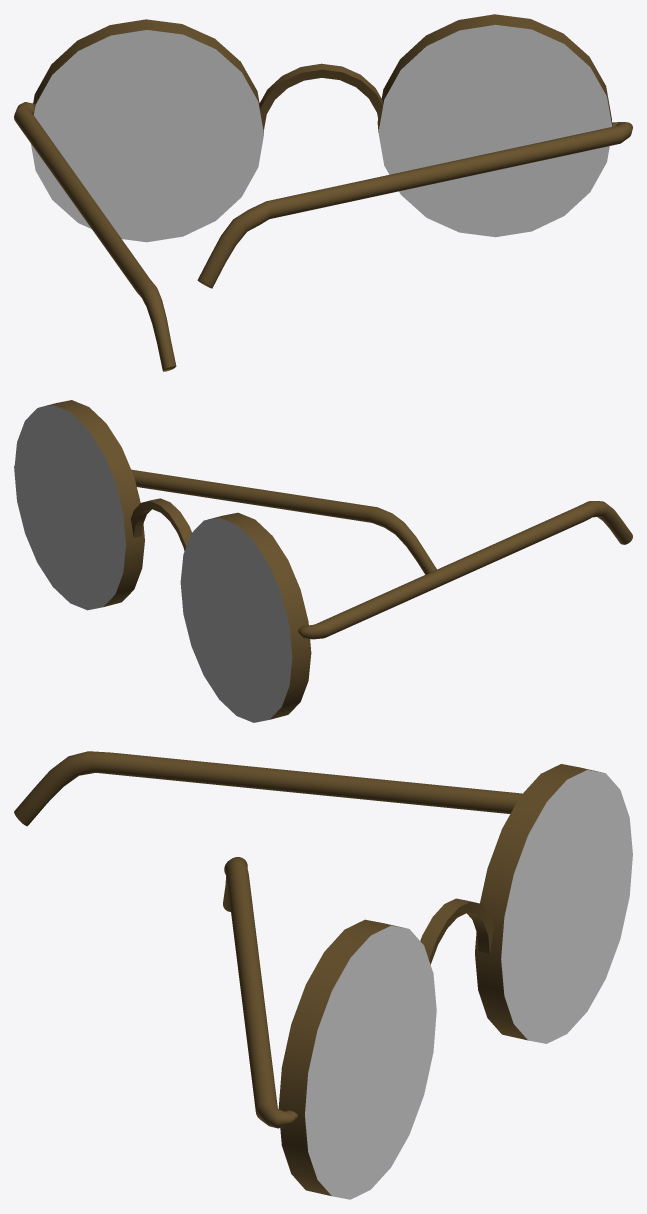
Rendered from Glasses_Text 1.fbx.
The picture shows the model from 3 angles, top to bottom: view 1: azimuth 30°, elevation 25°; view 2: azimuth 150°, elevation 25°; view 3: azimuth 270°, elevation 25°; orthographic projection. The views are drawn at different scales.
Visible parts, largest first — view 1: Glasses; view 2: Glasses; view 3: Glasses.
Part boxes in pixels (x1,y1,x2,y2): Glasses: (14,14,632,371); Glasses: (14,400,632,722); Glasses: (14,751,632,1199).
Bounding box in the file's own units: 17.06 × 6 × 13.24.
Materials: 1 (1 with a texture image).
